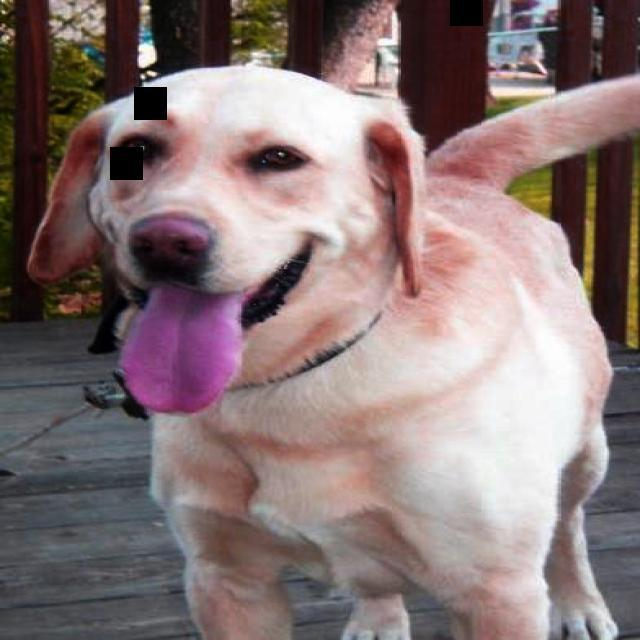adult_dog: (32, 61, 640, 640)
